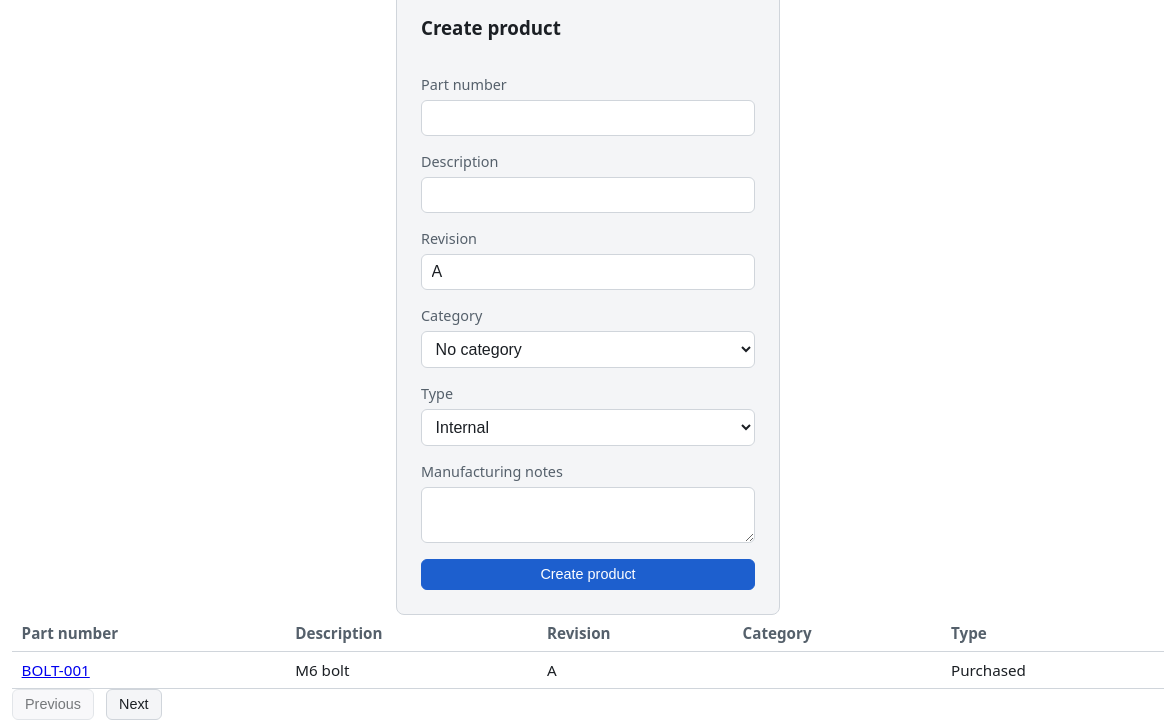
ProductsPage › paginates using the total count
(page scrolled)
Expected: the link "BOLT-001" is shown, [22,660,90,680]
Expected: the button "Previous" is disabled, [12,689,94,719]
Click the button "Next" at (134, 704), box [106,689,162,719]
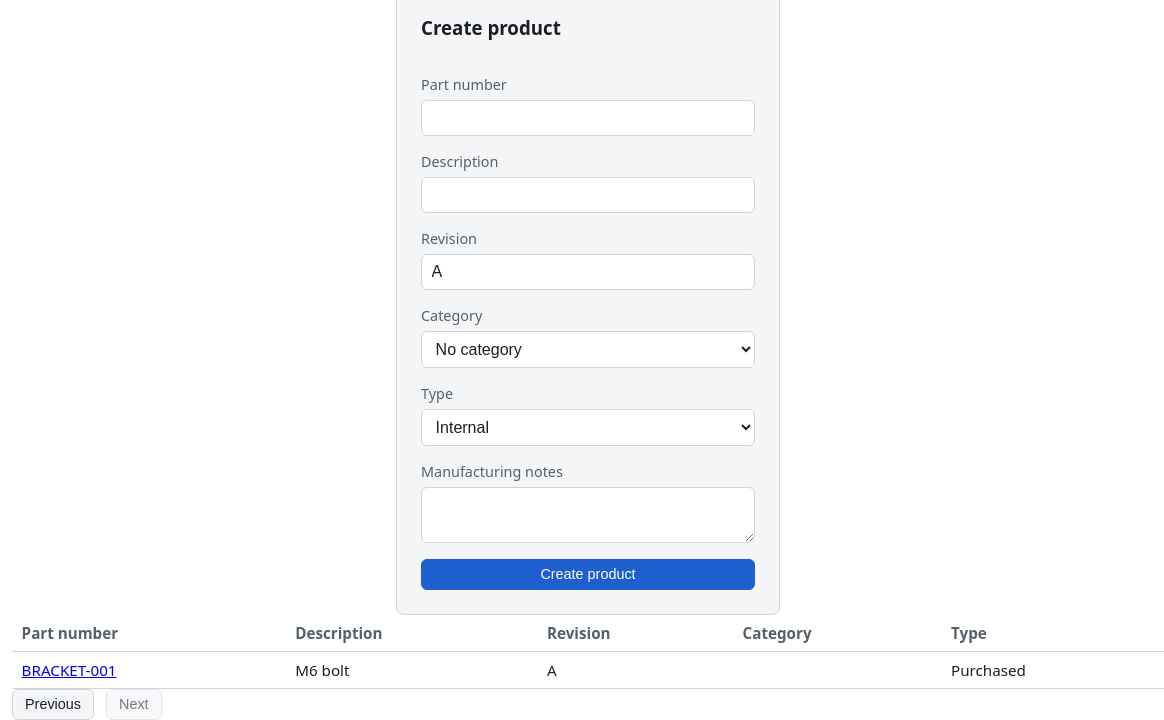
Expected: the link "BRACKET-001" is shown, [22,660,117,680]
